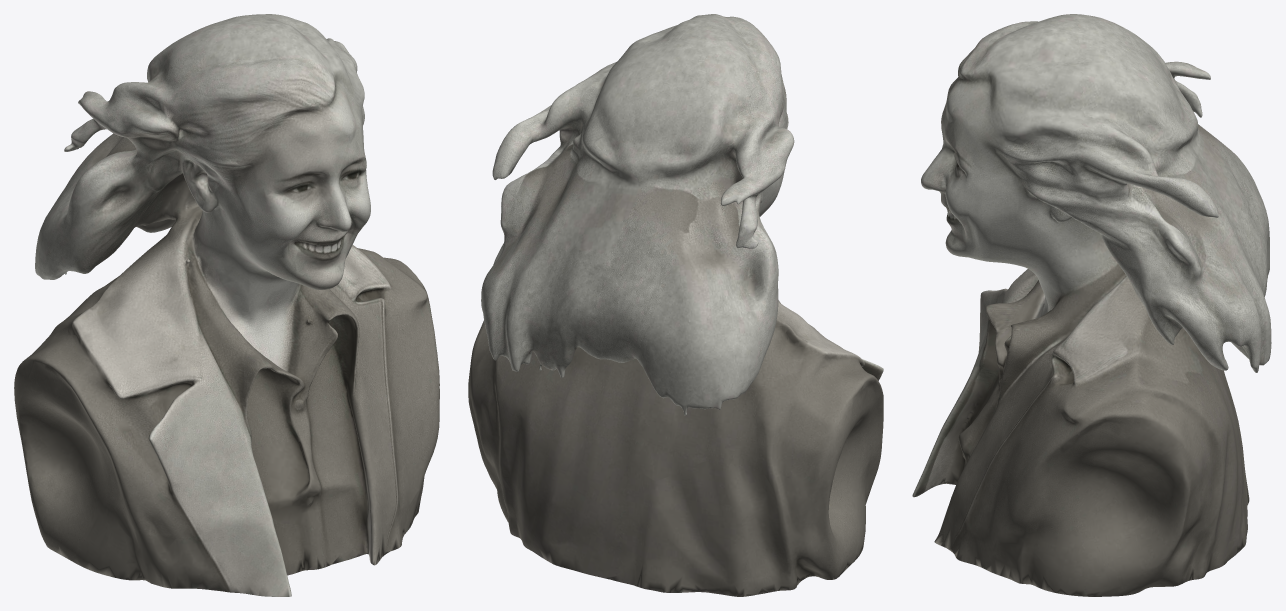
Rendered from eva_peron_face_compressed.glb.
The picture shows the model from 3 angles, left to right: view 1: azimuth 30°, elevation 25°; view 2: azimuth 150°, elevation 25°; view 3: azimuth 270°, elevation 25°; orthographic projection. The views are drawn at different scales.
Size of the model in its own units: 1.49 by 1.9 by 1.25.
Materials: 1 (1 with a texture image).
